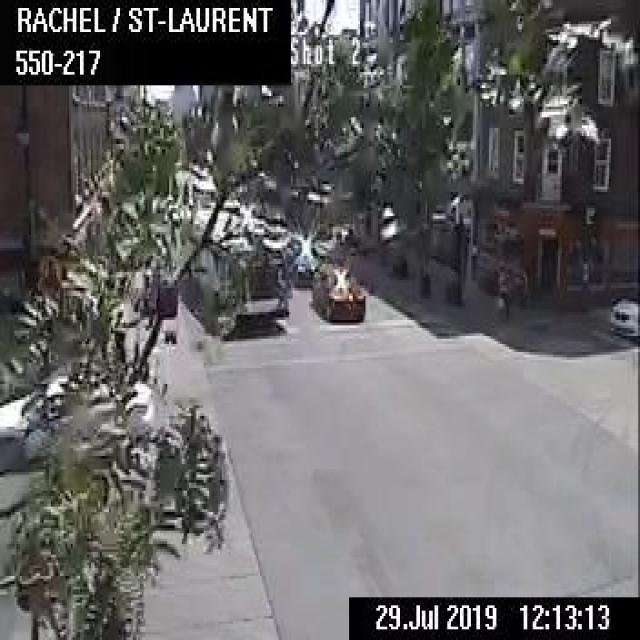bus: (175, 220, 286, 332)
vehicle: (0, 368, 171, 499), (312, 264, 363, 322), (607, 293, 638, 339), (290, 249, 329, 285)
